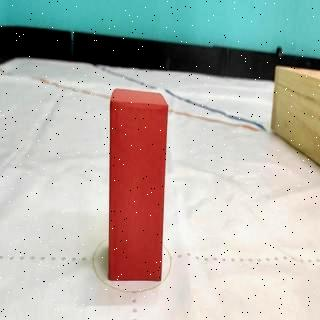redbox: (108, 86, 168, 282)
